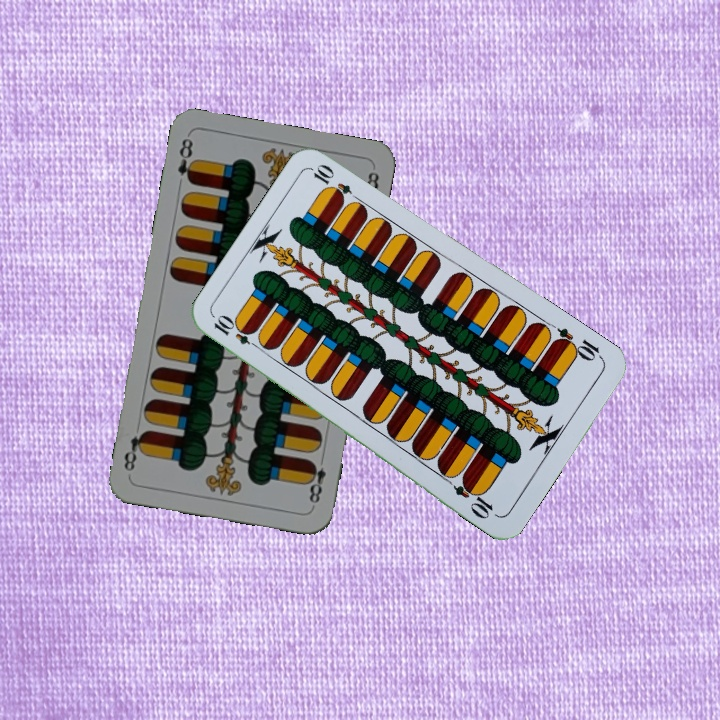E10: (549, 324, 606, 365), (209, 312, 265, 353)
E8: (303, 451, 329, 509), (173, 134, 199, 187)
